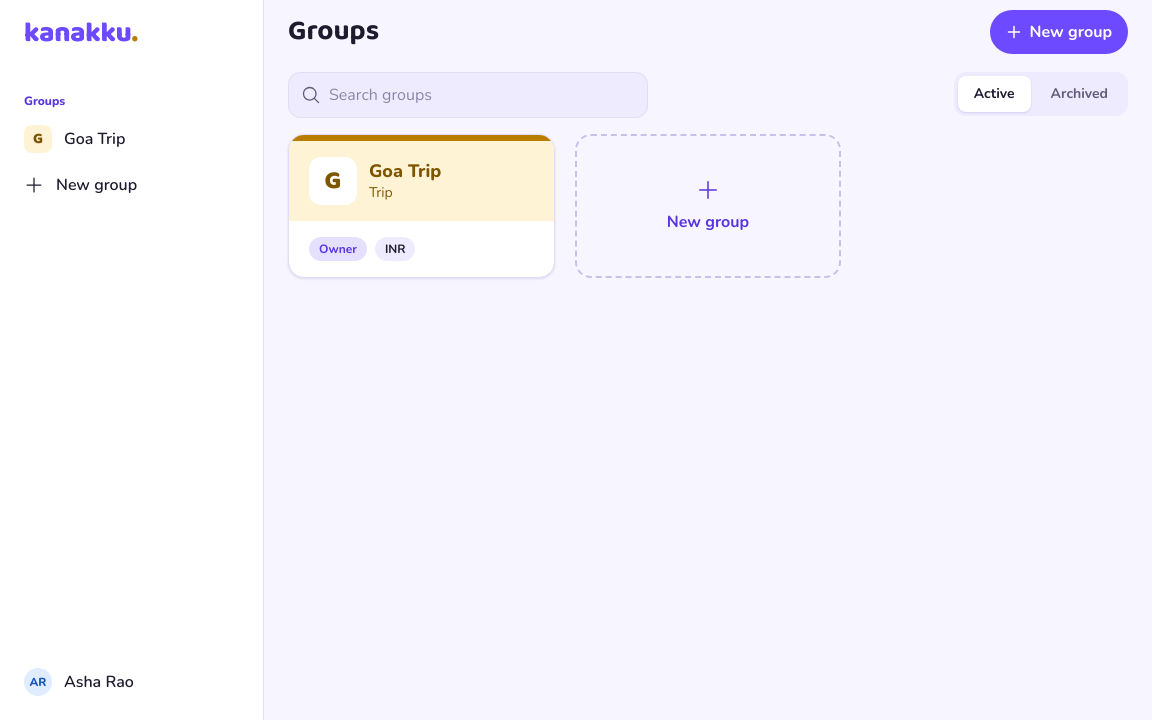
Test: GroupsPage list › switches between Active and Archived
The image size is (1152, 720).
Expected: the list named "Your groups" is shown, [288,134,841,278]
Click the radio button labelled "Archived". click: (1079, 94)
box: [1051,84,1108,103]
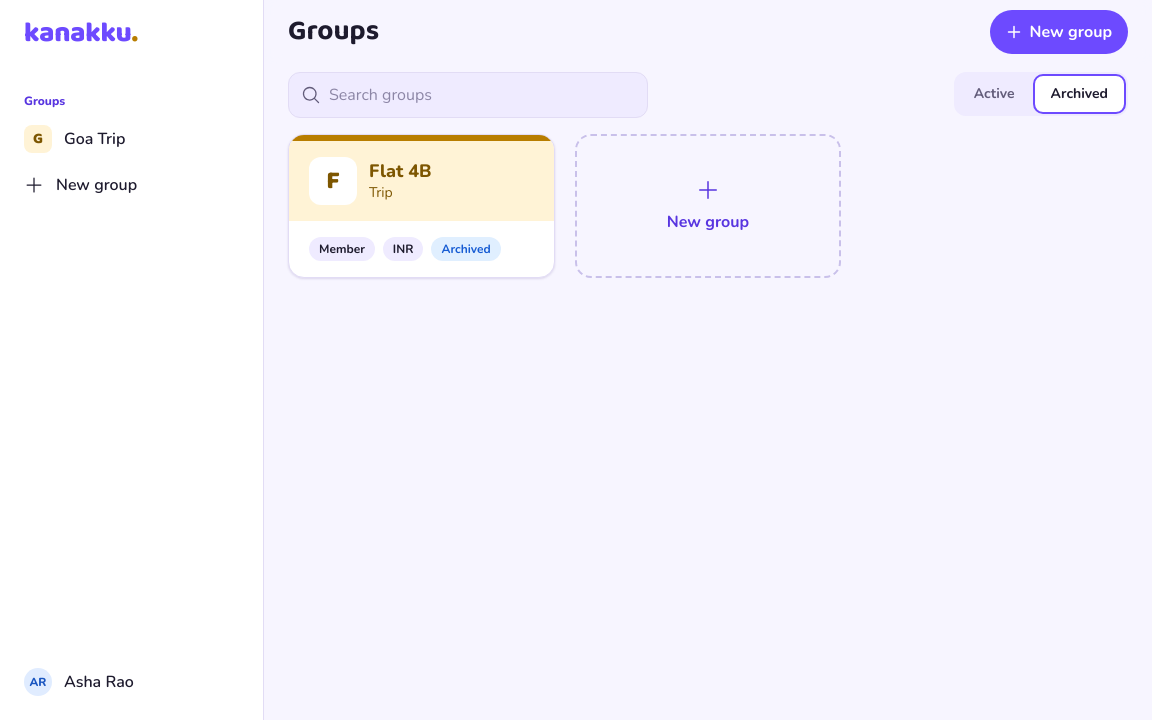
Expected: the link "F Flat 4B Trip Member INR Archived" is shown, [288,134,555,278]
Expected: the link "Flat 4B" no longer shows "Owner"
